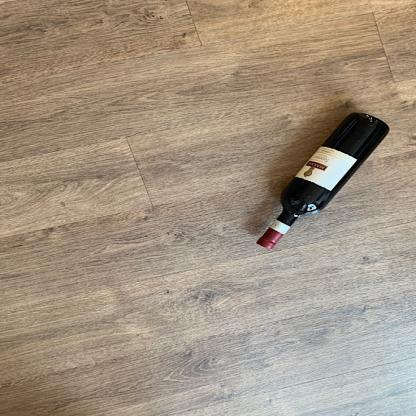trash: (254, 109, 393, 251)
